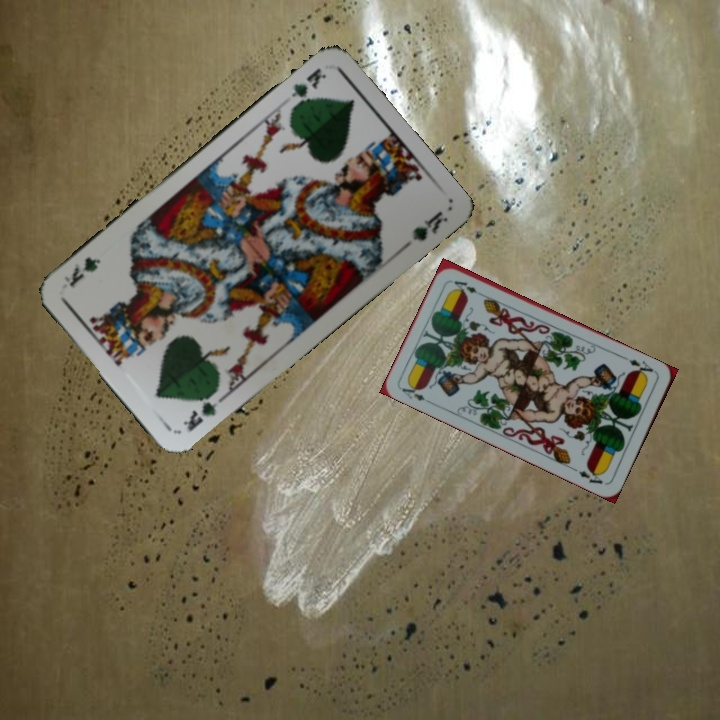EA: (620, 353, 659, 380), (397, 379, 427, 403)
GK: (178, 387, 227, 434), (287, 63, 329, 113)
